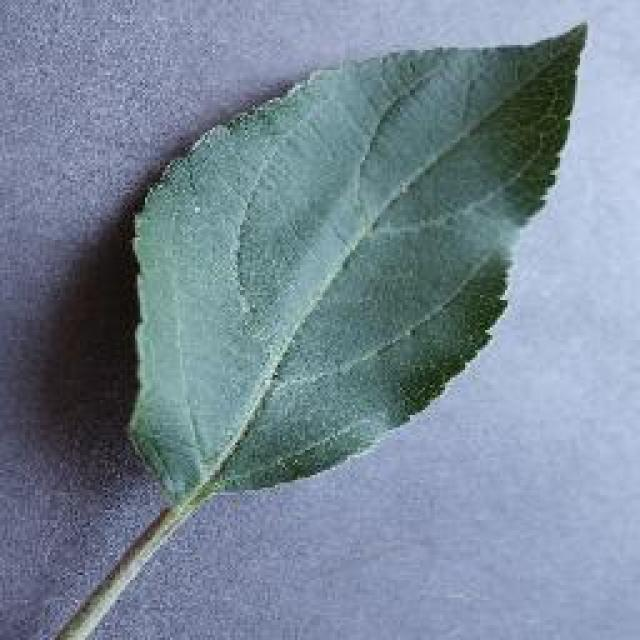apple healthy: (120, 18, 590, 512)
